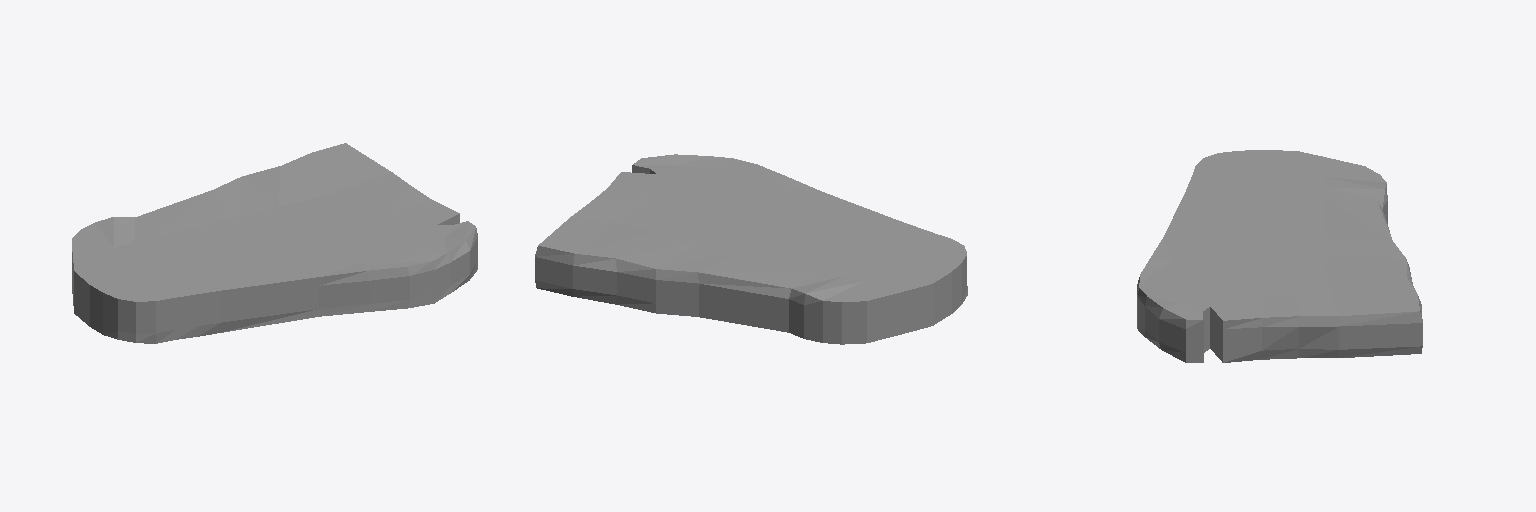
File: Meat.obj
The picture shows the model from 3 angles: view 1: azimuth 30°, elevation 25°; view 2: azimuth 150°, elevation 25°; view 3: azimuth 270°, elevation 25°; orthographic projection.
Visible parts, largest first — view 1: Plane; view 2: Plane; view 3: Plane.
Boxes of the visible parts, x1=… form: Plane: x1=72, y1=143, x2=477, y2=343; Plane: x1=535, y1=154, x2=967, y2=344; Plane: x1=1137, y1=150, x2=1422, y2=362.
Bounding box in the file's own units: 8.22 × 1.02 × 5.8.